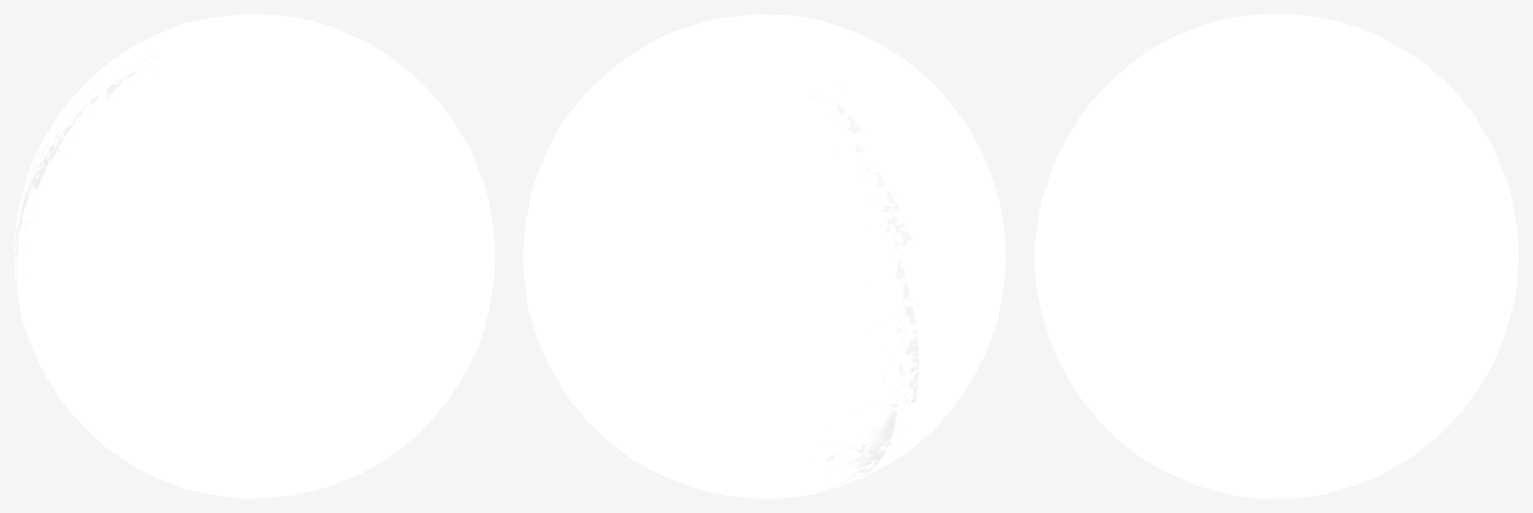
Rendered from moon14.glb.
3 renders of one model, left to right at view 1: azimuth 30°, elevation 25°; view 2: azimuth 150°, elevation 25°; view 3: azimuth 270°, elevation 25°, orthographic.
Parts seen in each view (by area): view 1: Object_91; view 2: Object_91; view 3: Object_91.
Part boxes in pixels (bbox=[...]): Object_91: bbox=[14, 14, 494, 498]; Object_91: bbox=[523, 14, 1005, 498]; Object_91: bbox=[1034, 14, 1518, 498].
Bounding box in the file's own units: 18.49 × 18.67 × 18.55.
Materials: 1 (1 with a texture image).
